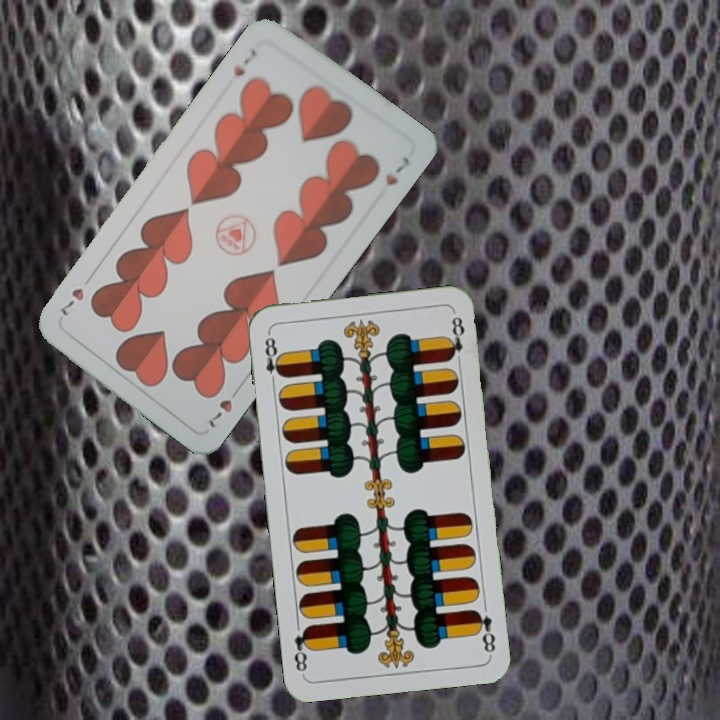E8: (261, 329, 286, 388), (470, 605, 498, 657)
H7: (204, 381, 244, 431), (229, 45, 259, 79)
